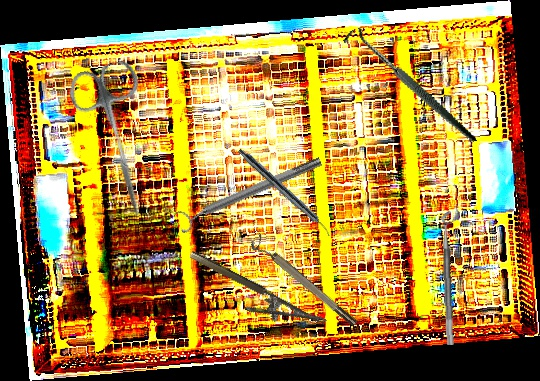Fixation Ring: (173, 150, 326, 235), (247, 232, 360, 333), (441, 210, 465, 345)
Handpiece: (235, 146, 335, 239)
Hook Surgical: (341, 3, 477, 172)
Iris Scissors: (63, 57, 175, 226)
Needle Holder: (180, 249, 327, 346)
